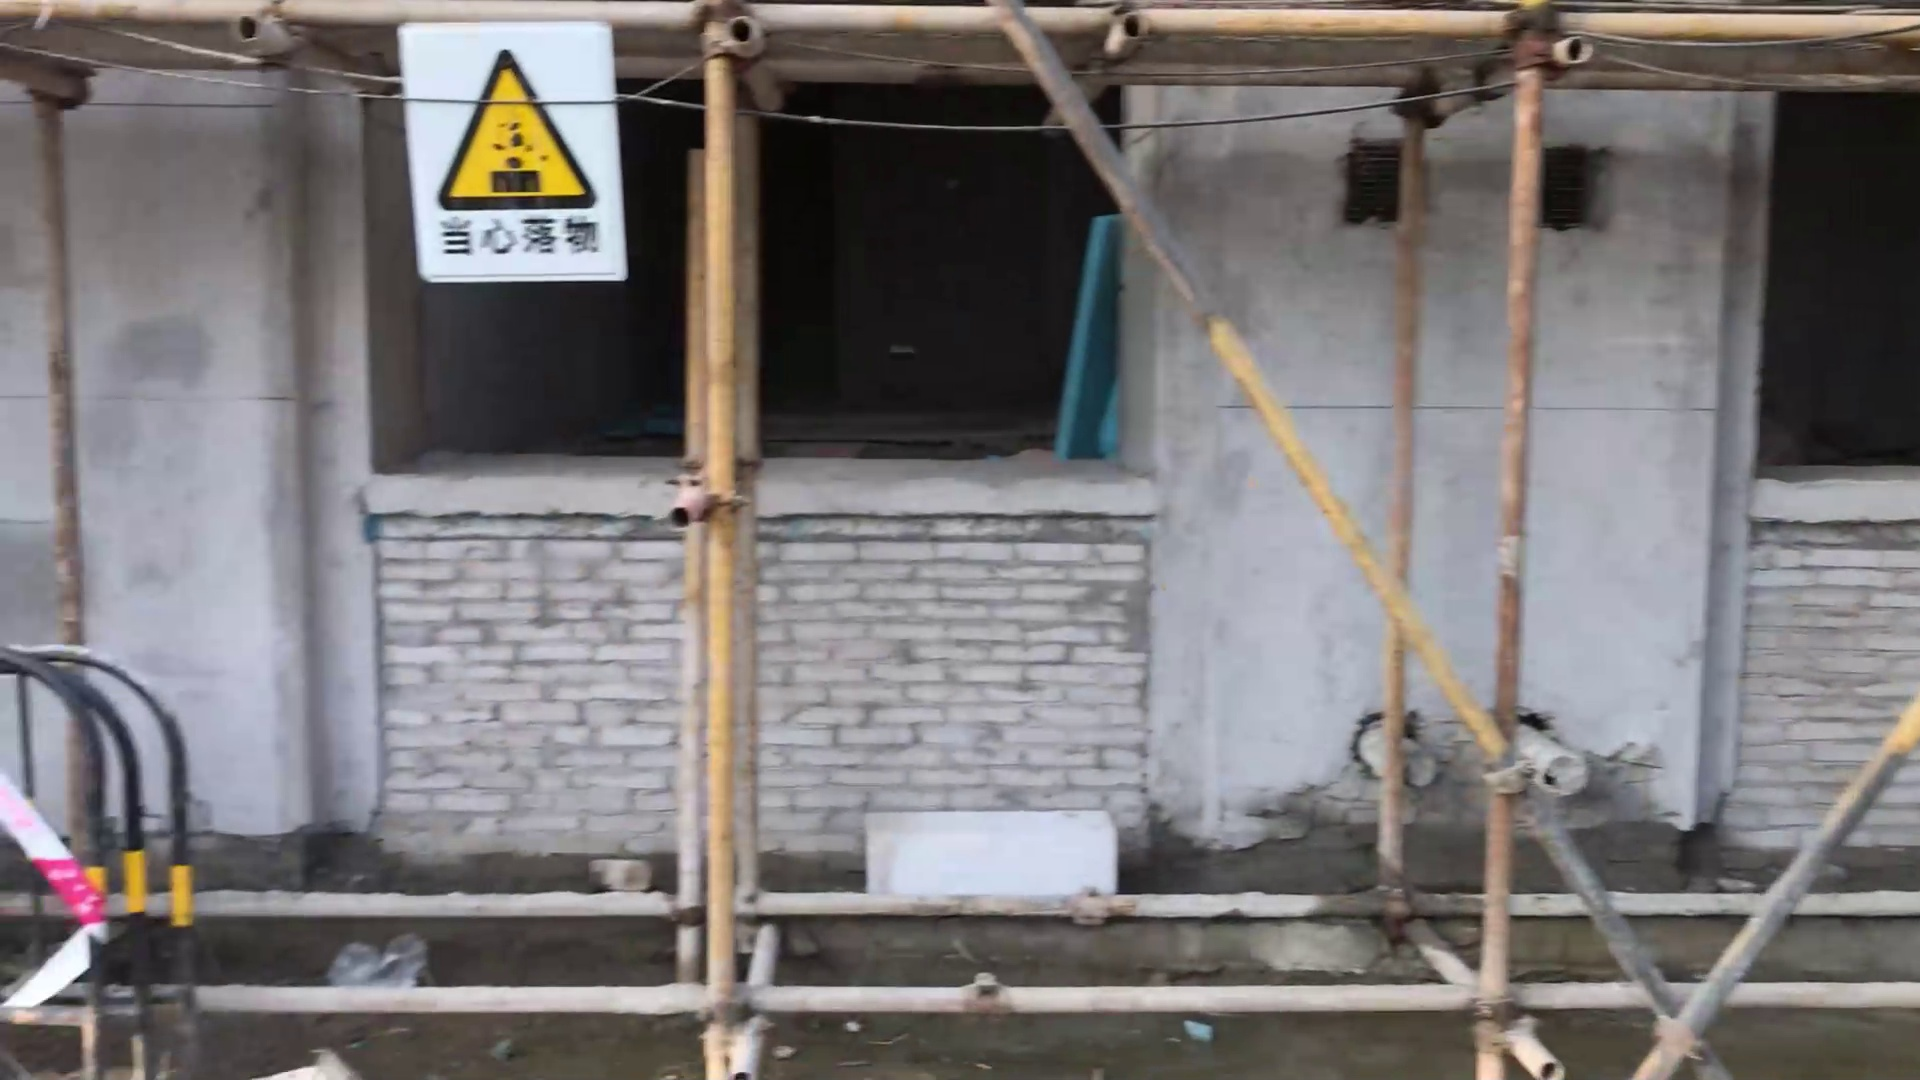fence: (1, 636, 211, 1072)
slogan: (402, 21, 632, 282)
